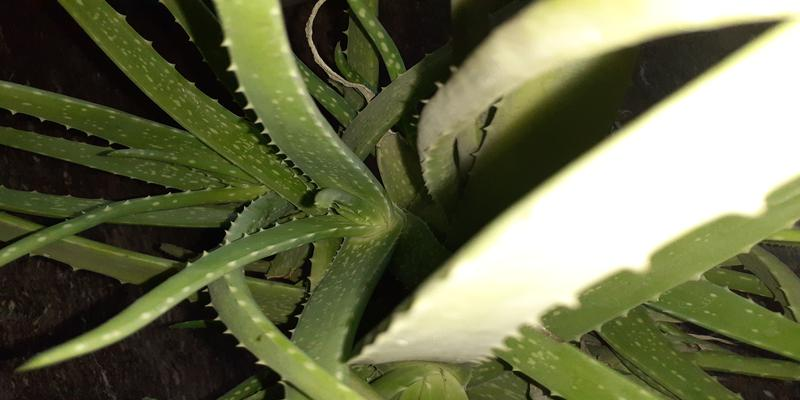Aloevera: (98, 36, 722, 381)
